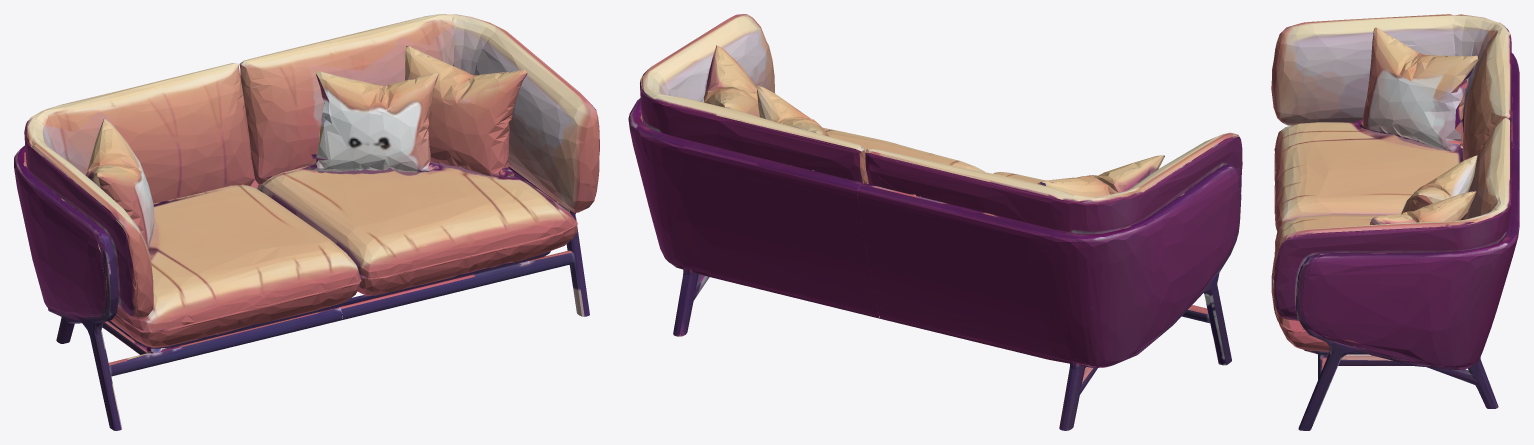
The model's file is edited_mesh.glb.
The picture shows the model from 3 angles, left to right: view 1: azimuth 30°, elevation 25°; view 2: azimuth 150°, elevation 25°; view 3: azimuth 270°, elevation 25°; orthographic projection. The views are drawn at different scales.
Visible parts, largest first — view 1: solid_001_wire; view 2: solid_001_wire; view 3: solid_001_wire.
Part boxes in pixels (left/top/right/bottom): solid_001_wire: left=14, top=14, right=599, bottom=430; solid_001_wire: left=628, top=14, right=1242, bottom=430; solid_001_wire: left=1271, top=14, right=1519, bottom=430.
Bounding box in the file's own units: 2 × 0.8758 × 0.9391.
1 material, 1 textured.
